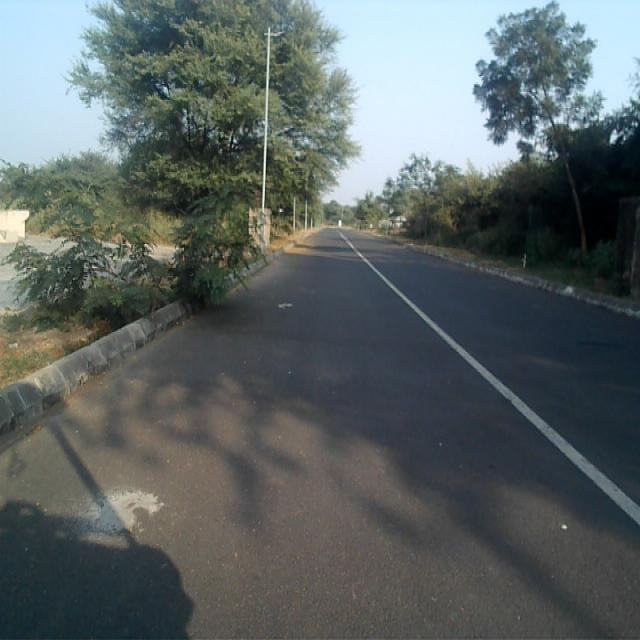lane: (0, 231, 640, 640)
